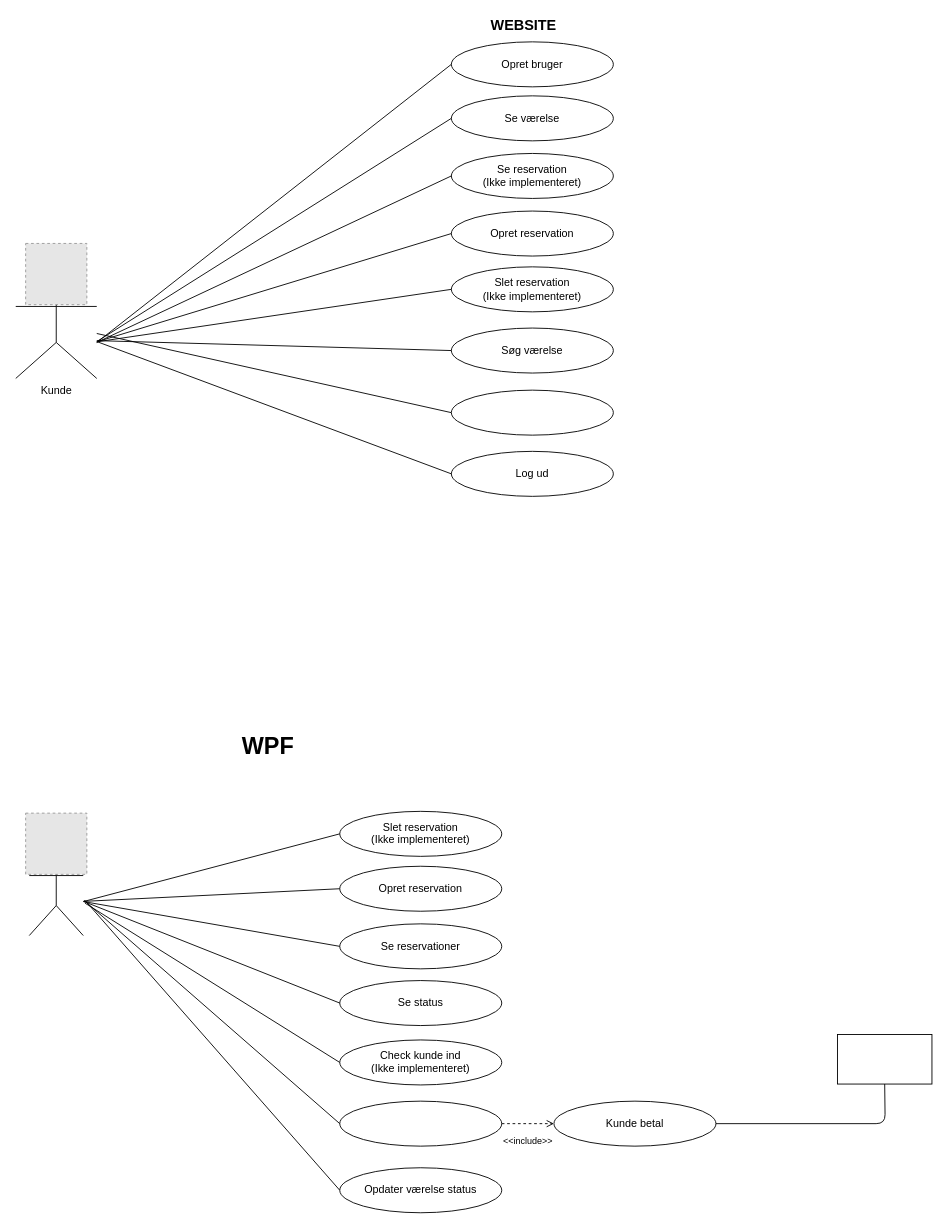
Image size: 948x1229. Some labels were removed from this diagram. Grey dashed boxes stand in for pictures. The centre of each missing label's shape, as x and y in pixels:
"Check kunde ud (Ikke implementeret)" goes at pixel 420 1123.
"Kreditkort, Paypayl/Mobilepay <<actor>>" goes at pixel 884 1059.
"Log ind" goes at pixel 531 412.
"Reception" goes at pixel 55 890.
